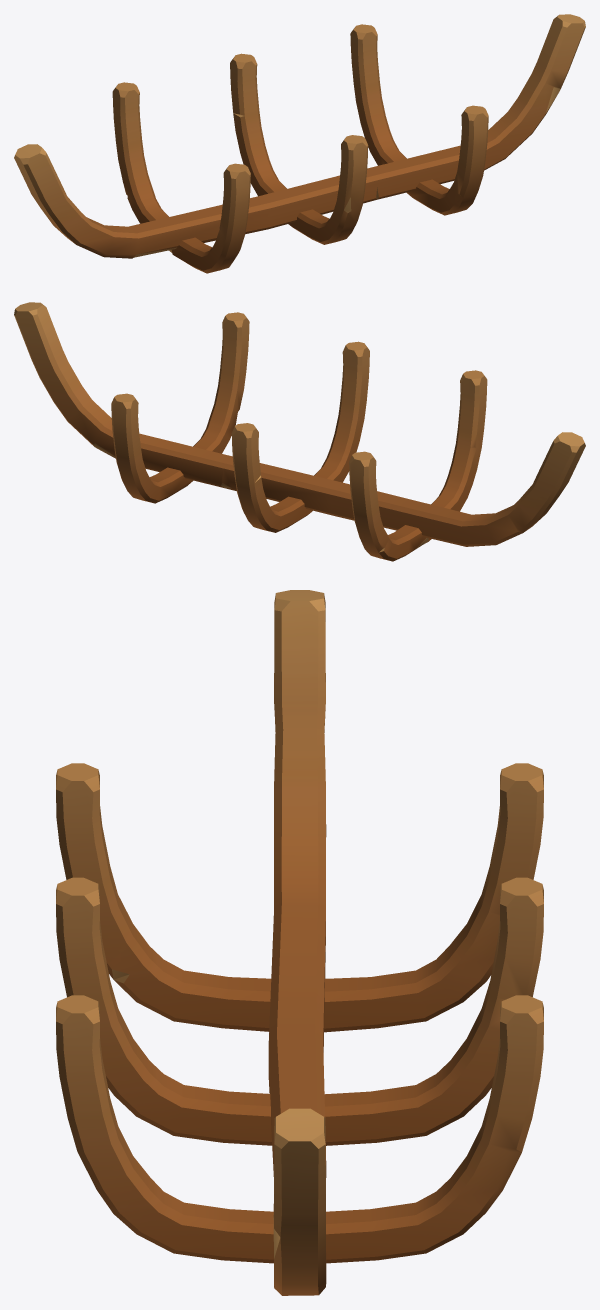
File: BoatFrame_B.glb
The picture shows the model from 3 angles, top to bottom: view 1: azimuth 30°, elevation 25°; view 2: azimuth 150°, elevation 25°; view 3: azimuth 270°, elevation 25°; orthographic projection. The views are drawn at different scales.
Visible parts, largest first — view 1: BoatFrame_B; view 2: BoatFrame_B; view 3: BoatFrame_B.
Boxes of the visible parts, <box> form: BoatFrame_B: <box>14,14,585,273</box>; BoatFrame_B: <box>14,302,585,561</box>; BoatFrame_B: <box>56,590,543,1295</box>.
Size of the model in its own units: 6.03 by 1.47 by 2.26.
1 material, 1 textured.
